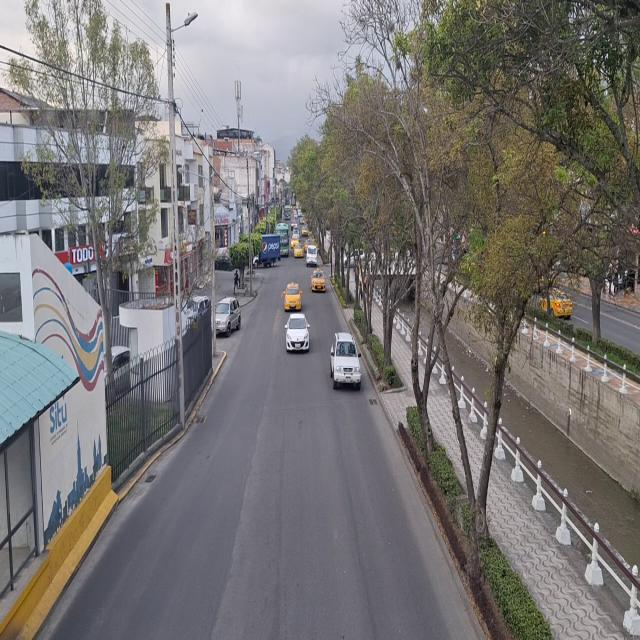BUS: (275, 224, 289, 256)
SUV: (332, 335, 363, 388)
TRUCK: (306, 245, 317, 267)
